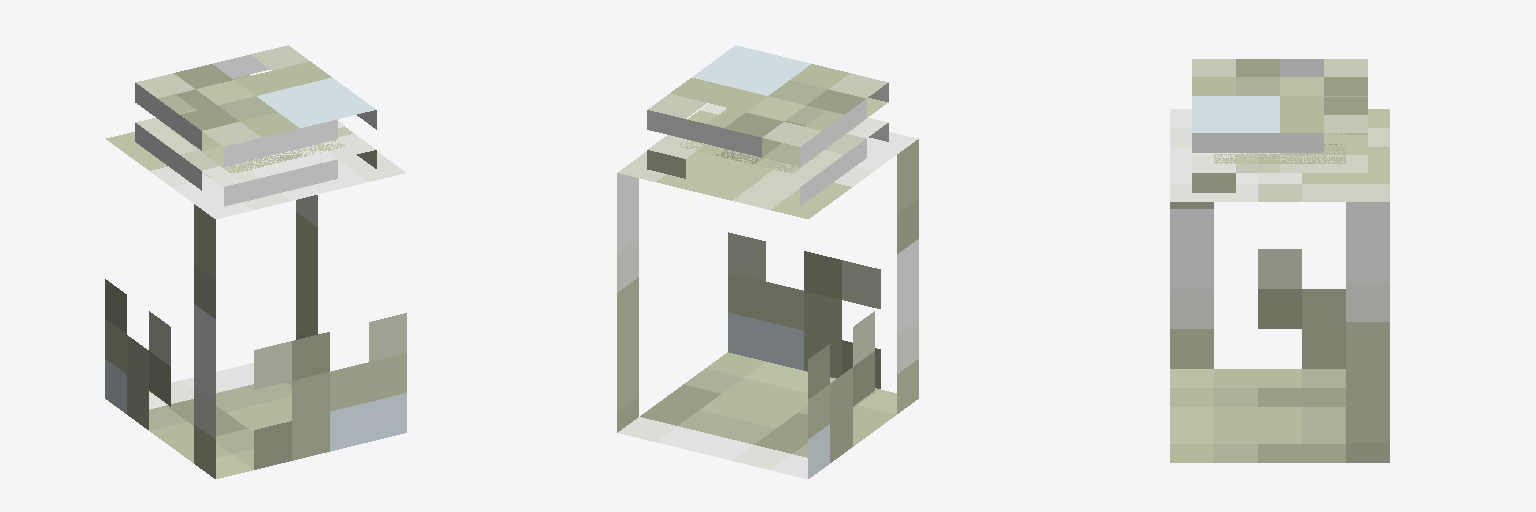
3 renders of one model, left to right at view 1: azimuth 30°, elevation 25°; view 2: azimuth 150°, elevation 25°; view 3: azimuth 270°, elevation 25°, orthographic.
Visible parts, largest first — view 1: cube; view 2: cube; view 3: cube.
Boxes of the visible parts, x1,y1,x2,y2 form: cube: [105, 45, 406, 478]; cube: [617, 45, 918, 478]; cube: [1170, 59, 1389, 462].
Size of the model in its own units: 0.625 by 0.9991 by 0.625.
1 materials, 1 textured.